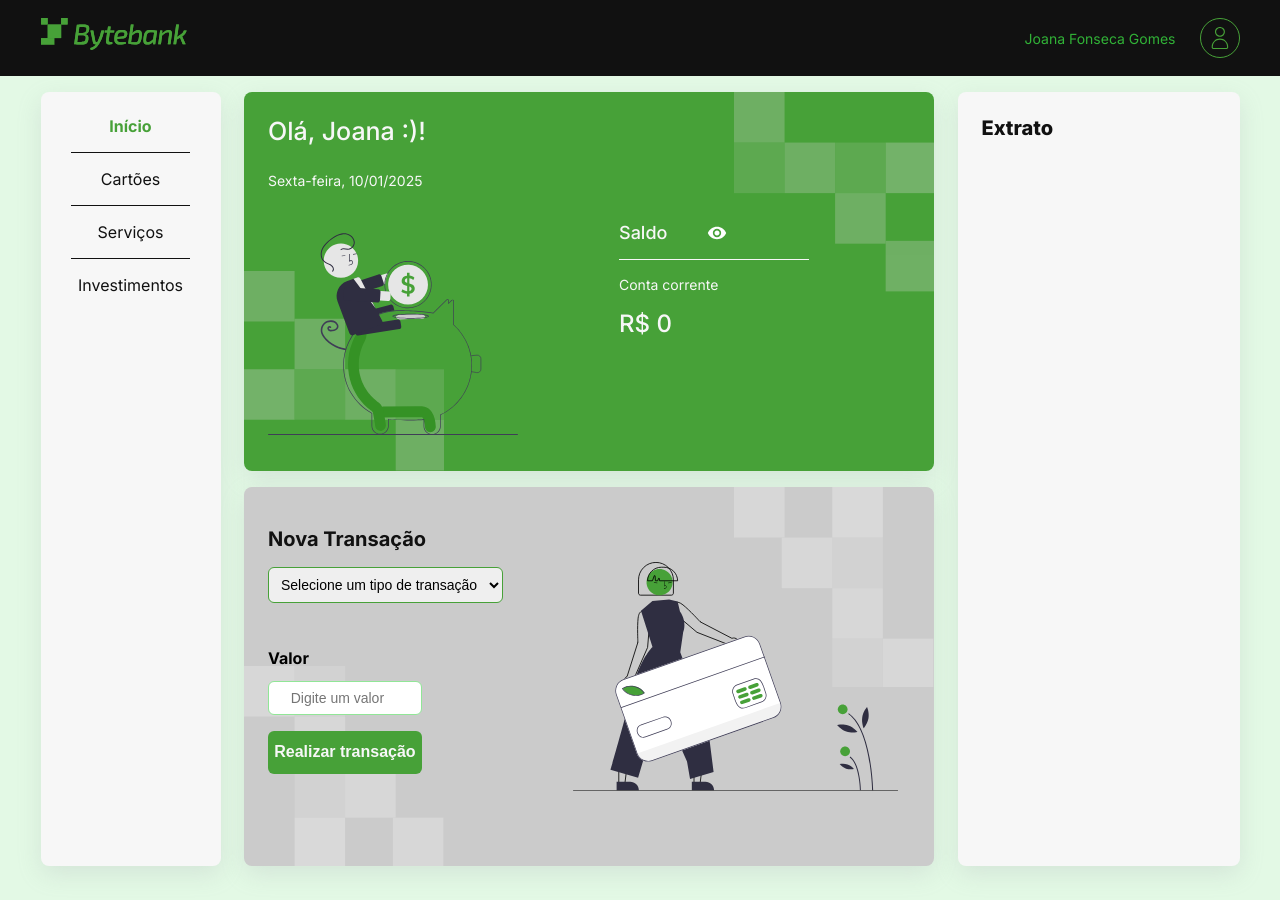
Test: Componente <App /> › Deve clicar no link para página de meus cartões e ser redirecionado
Step 1. Click the link "Cartões" → [130, 179], box [101,169,160,189]
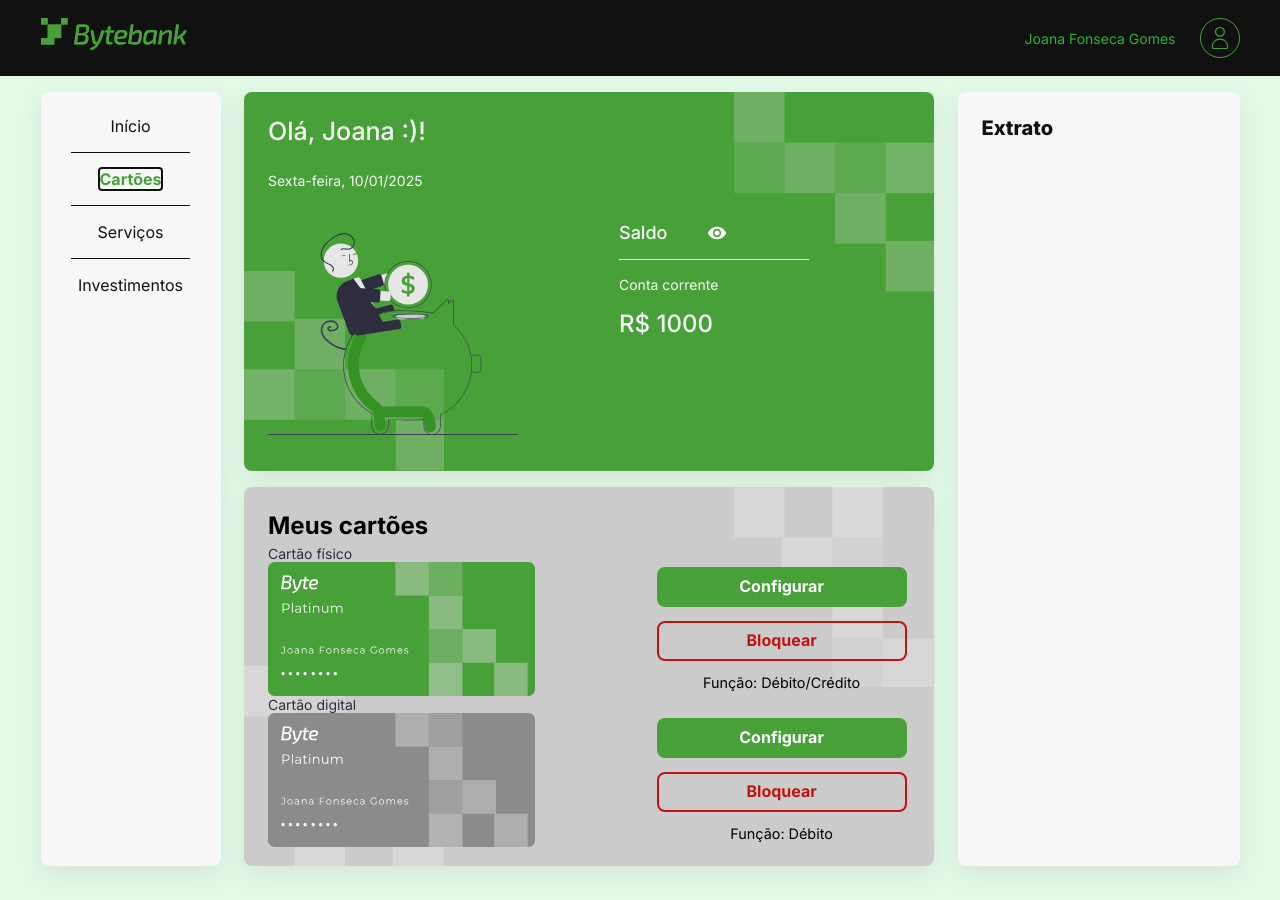
Result: the heading "Meus cartões" is shown at [268,511,428,540]
